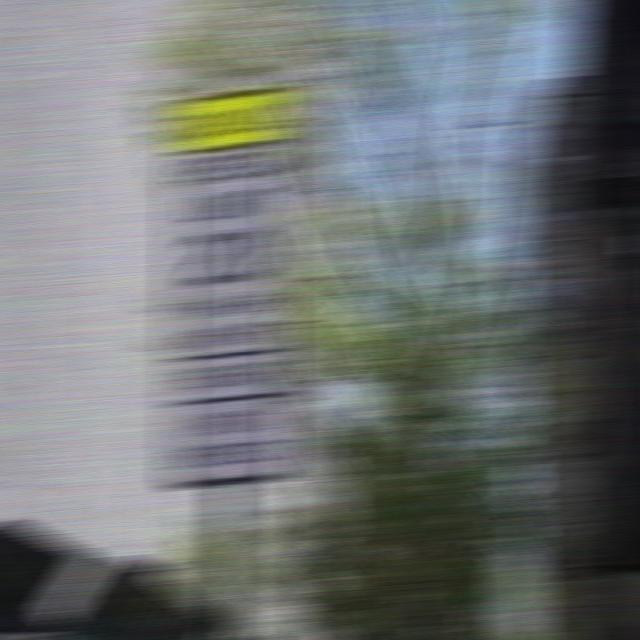speedLimit20: (169, 151, 289, 290)
